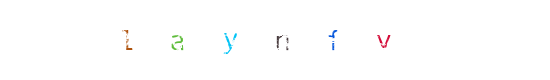A: (204, 0, 284, 80)
F: (238, 0, 318, 80)
L: (182, 0, 262, 80)
N: (235, 0, 315, 80)
V: (256, 0, 336, 80)
Y: (209, 0, 289, 80)
